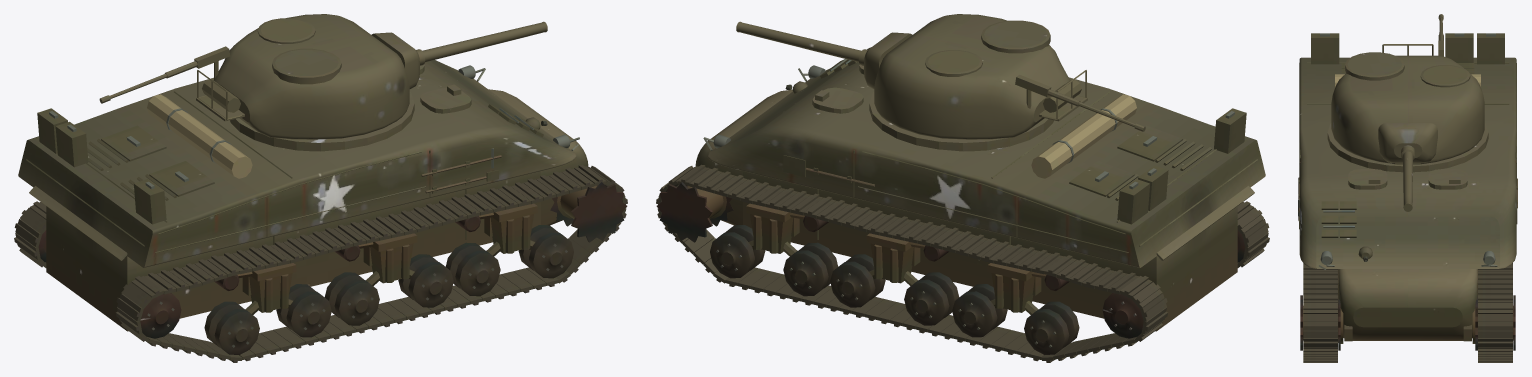
File: m4-sherman.glb
3 views of the same model, side by side, from view 1: azimuth 30°, elevation 25°; view 2: azimuth 150°, elevation 25°; view 3: azimuth 270°, elevation 25° (orthographic). The views are drawn at different scales.
Visible parts, largest first — view 1: ShermanBowGun, Tracks, Turret1, Gun1; view 2: ShermanBowGun, Tracks, Turret1, Gun1; view 3: ShermanBowGun, Turret1, Tracks, Gun1.
Part boxes in pixels (x1,y1,x2,y2): ShermanBowGun: (18,60,627,354); Tracks: (14,164,627,362); Turret1: (99,14,409,139); Gun1: (371,21,547,88); ShermanBowGun: (656,47,1265,354); Tracks: (656,164,1269,362); Turret1: (874,14,1145,139); Gun1: (736,21,912,88); ShermanBowGun: (1298,33,1517,350); Turret1: (1331,14,1484,164); Tracks: (1303,263,1512,362); Gun1: (1378,123,1437,211).
Size of the model in its own units: 5.89 by 2.78 by 2.65.
1 material, 1 textured.
